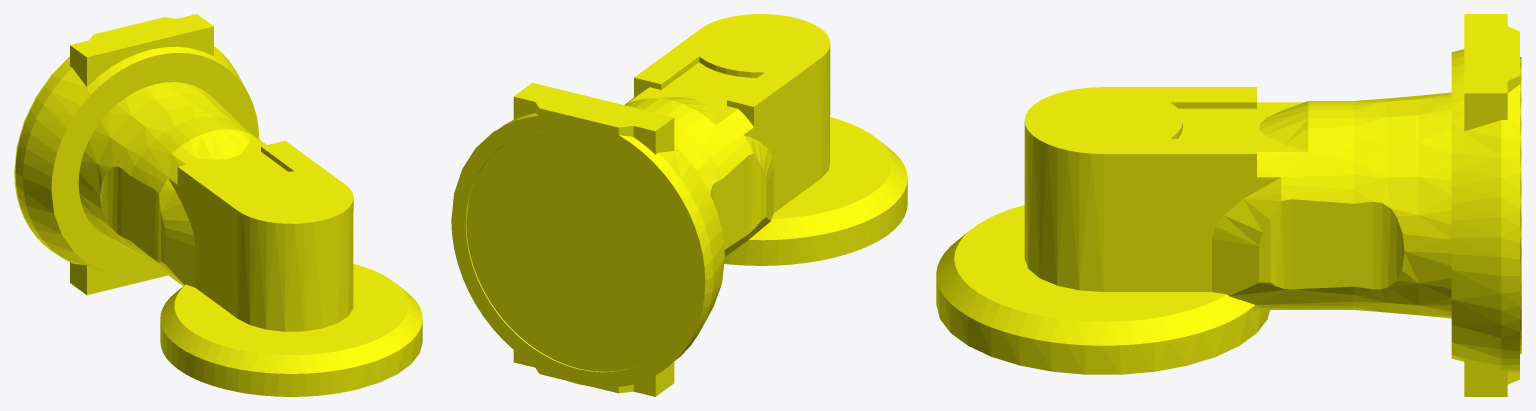
3 renders of one model, left to right at view 1: azimuth 30°, elevation 25°; view 2: azimuth 150°, elevation 25°; view 3: azimuth 270°, elevation 25°, orthographic. The views are drawn at different scales.
Visible parts, largest first — view 1: node; view 2: node; view 3: node.
Boxes of the visible parts, x1,y1,x2,y2 form: node: (14,14,422,396); node: (451,14,907,396); node: (936,14,1521,396).
Bounding box in the file's own units: 186 × 186 × 325.
